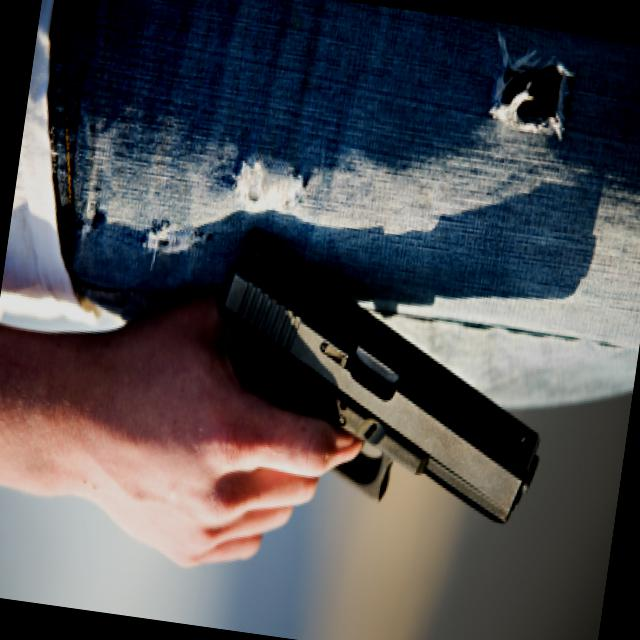handgun: (186, 212, 568, 538)
